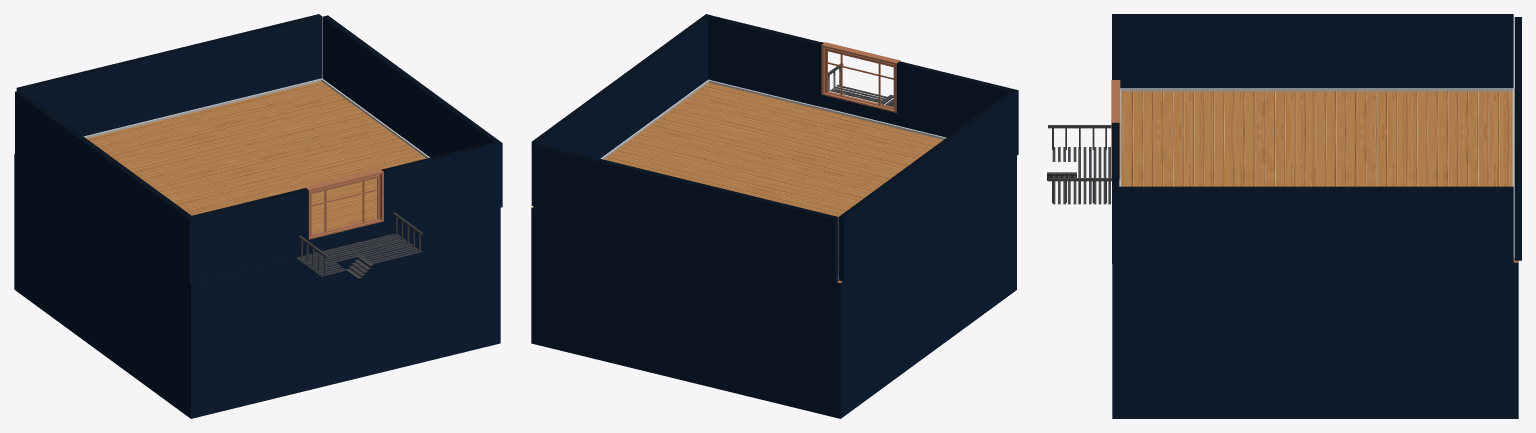
The model's file is RobberRoom.fbx.
The picture shows the model from 3 angles, left to right: view 1: azimuth 30°, elevation 25°; view 2: azimuth 150°, elevation 25°; view 3: azimuth 270°, elevation 25°; orthographic projection. The views are drawn at different scales.
Parts seen in each view (by area): view 1: Zemin, SagDuvar.003, SagDuvar.001, SagDuvar.002, SagDuvar.006, SagDuvar.004, Merdiven, PencereDuvar, PencerAcilan; view 2: Zemin, SagDuvar.003, SagDuvar.001, SagDuvar.002, SagDuvar.004, SagDuvar.006, PencereDuvar, PencerAcilan, Merdiven; view 3: Zemin, SagDuvar.002, SagDuvar.001, Merdiven, SagDuvar.003, PencereDuvar, SagDuvar.006, SagDuvar.004.
Boxes of the visible parts, box(x1,y1,x2,y2) form: Zemin: box(14, 81, 500, 418); SagDuvar.003: box(16, 14, 322, 138); SagDuvar.001: box(15, 90, 193, 283); SagDuvar.002: box(321, 15, 502, 208); SagDuvar.006: box(190, 189, 304, 282); SagDuvar.004: box(385, 142, 496, 234); Merdiven: box(296, 212, 422, 279); PencereDuvar: box(302, 168, 387, 255); PencerAcilan: box(310, 174, 380, 236); Zemin: box(531, 82, 1016, 418); SagDuvar.003: box(533, 143, 838, 283); SagDuvar.001: box(838, 89, 1018, 281); SagDuvar.002: box(531, 14, 710, 205); SagDuvar.004: box(708, 15, 819, 108); SagDuvar.006: box(899, 62, 1014, 139); PencereDuvar: box(816, 42, 903, 128); PencerAcilan: box(825, 48, 894, 109); Merdiven: box(828, 63, 893, 106); Zemin: box(1112, 91, 1518, 418); SagDuvar.002: box(1112, 186, 1513, 263); SagDuvar.001: box(1112, 14, 1513, 91); Merdiven: box(1047, 125, 1111, 204); SagDuvar.003: box(1512, 17, 1521, 260); PencereDuvar: box(1111, 78, 1121, 186); SagDuvar.006: box(1112, 16, 1121, 149); SagDuvar.004: box(1112, 125, 1119, 186).
Bounding box in the file's own units: 8.28 × 5.07 × 9.46.
